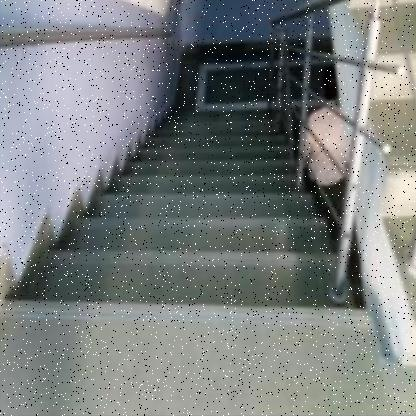stair_down: (18, 184, 333, 335)
